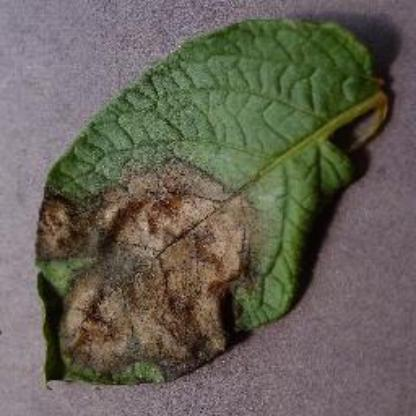Late-Blight: (17, 12, 415, 394)
